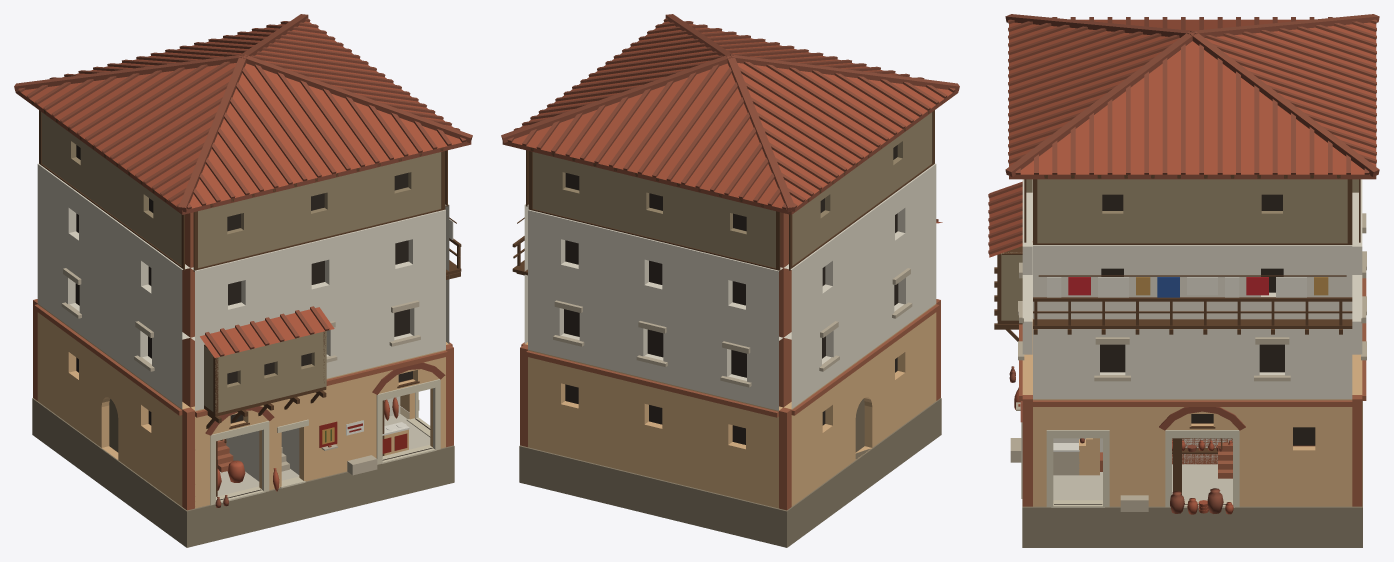
Rendered from rome_insula_e.glb.
The picture shows the model from 3 angles, left to right: view 1: azimuth 30°, elevation 25°; view 2: azimuth 150°, elevation 25°; view 3: azimuth 270°, elevation 25°; orthographic projection. The views are drawn at different scales.
Parts seen in each view (by area): view 1: rome_insula_e; view 2: rome_insula_e; view 3: rome_insula_e.
Part boxes in pixels (x1,y1,x2,y2): rome_insula_e: (14, 14, 472, 547); rome_insula_e: (501, 14, 959, 547); rome_insula_e: (988, 14, 1379, 547).
Bounding box in the file's own units: 13.38 × 17.32 × 13.86.
